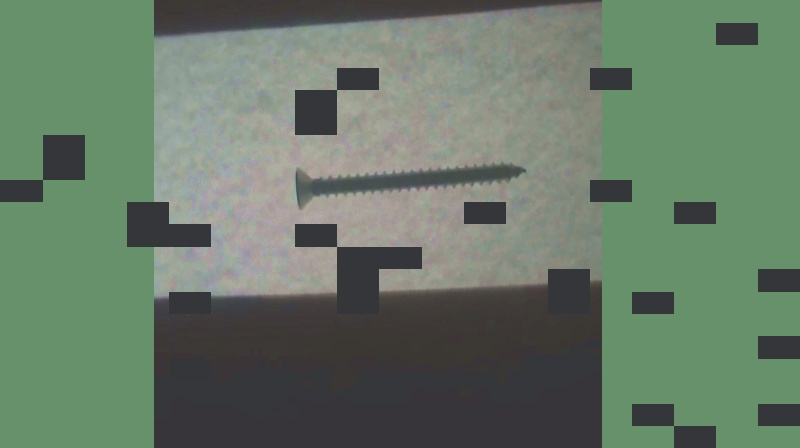S002: (290, 157, 530, 213)
